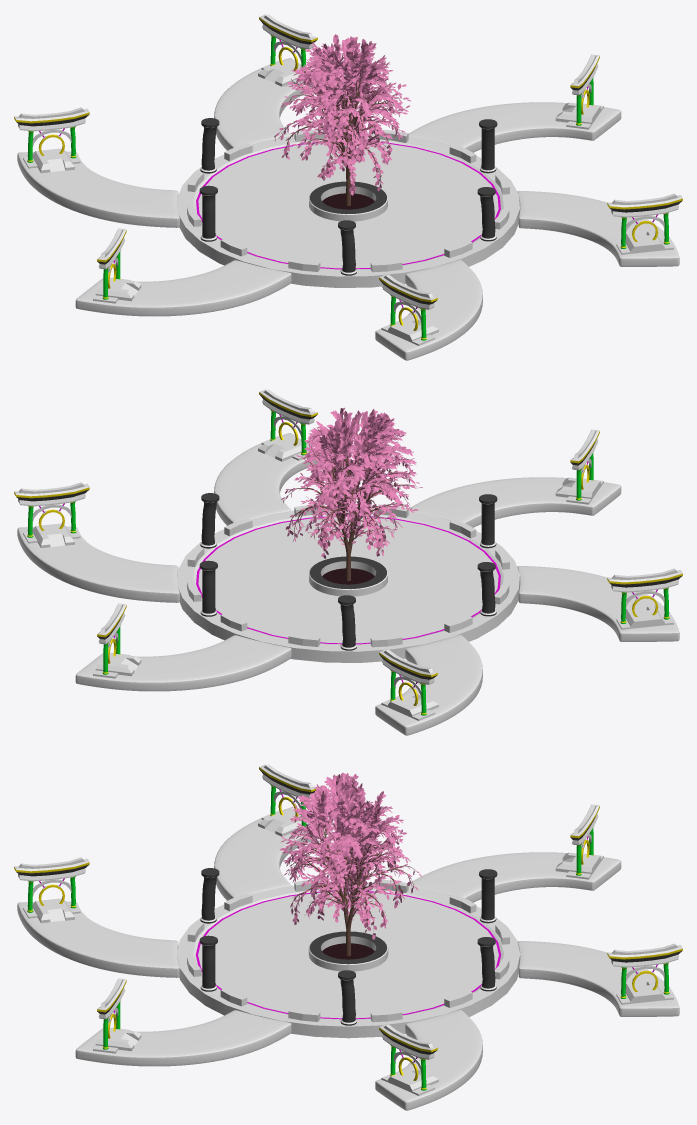
File: Nexus.fbx
The picture shows the model from 3 angles, top to bottom: view 1: azimuth 30°, elevation 25°; view 2: azimuth 150°, elevation 25°; view 3: azimuth 270°, elevation 25°; orthographic projection.
Parts seen in each view (by area): view 1: Nexus_Base_Main, tree_center, Cylinder.086, Cylinder.087, Cylinder.090, Cylinder.091, Cylinder.085, Cylinder.089, PortalE, PortalB, PortalA, PortalD (+8 smaller); view 2: Nexus_Base_Main, tree_center, Cylinder.089, Cylinder.090, Cylinder.085, Cylinder.086, Cylinder.087, Cylinder.091, PortalC, PortalF, PortalB, PortalE (+8 smaller); view 3: Nexus_Base_Main, tree_center, Cylinder.091, Cylinder.085, Cylinder.087, Cylinder.089, Cylinder.090, Cylinder.086, PortalA, PortalD, PortalC, PortalF (+8 smaller).
Boxes of the visible parts, x1,y1,x2,y2 form: Nexus_Base_Main: (177,132,519,287); tree_center: (274,34,410,206); Cylinder.086: (75,260,291,316); Cylinder.087: (17,151,179,227); Cylinder.090: (408,102,621,152); Cylinder.091: (517,191,679,266); Cylinder.085: (375,260,482,360); Cylinder.089: (214,58,313,150); PortalE: (14,107,89,173); PortalB: (607,193,682,254); PortalA: (379,274,438,345); PortalD: (258,14,317,86); Nexus_Base_Main: (177,507,519,662); tree_center: (281,407,422,581); Cylinder.089: (75,635,291,691); Cylinder.090: (17,526,179,602); Cylinder.085: (408,477,621,527); Cylinder.086: (517,566,679,641); Cylinder.087: (375,635,482,735); Cylinder.091: (214,433,320,525); PortalC: (14,482,89,548); PortalF: (607,568,682,629); PortalB: (258,389,317,461); PortalE: (379,649,438,720); Nexus_Base_Main: (176,882,520,1038); tree_center: (279,772,421,956); Cylinder.091: (75,1010,291,1066); Cylinder.085: (17,901,179,977); Cylinder.087: (409,852,621,902); Cylinder.089: (517,941,679,1016); Cylinder.090: (375,1010,482,1110); Cylinder.086: (214,808,317,900); PortalA: (14,857,89,923); PortalD: (607,943,682,1004); PortalC: (379,1024,438,1095); PortalF: (258,764,316,836).
Bounding box in the file's own units: 89.5 × 25.54 × 85.93.
